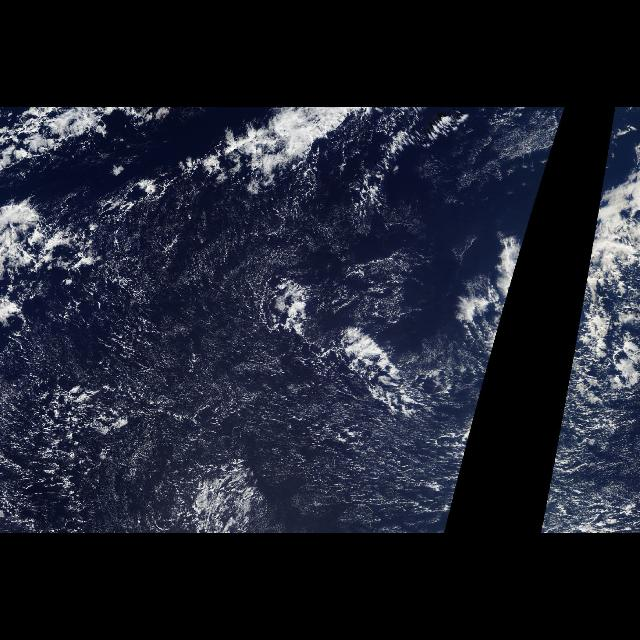Fish: (0, 108, 388, 278)
Gravel: (9, 288, 155, 534)
Sugar: (114, 240, 482, 530)
